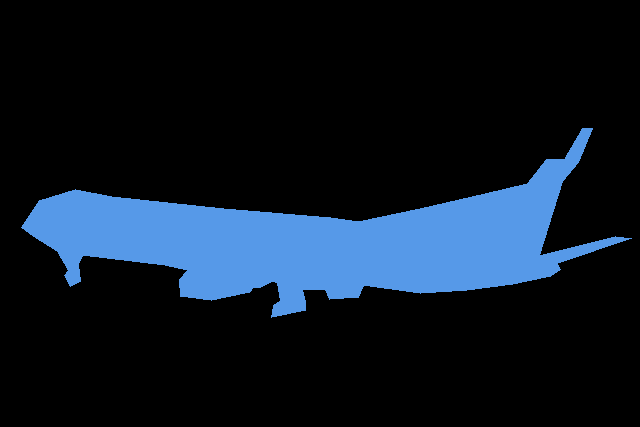Airplane: (21, 128, 632, 318)
